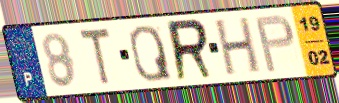8: (40, 31, 78, 89)
H: (214, 14, 263, 78)
P: (253, 13, 297, 75)
Q: (127, 23, 175, 84)
R: (165, 17, 217, 85)
T: (76, 25, 113, 88)
